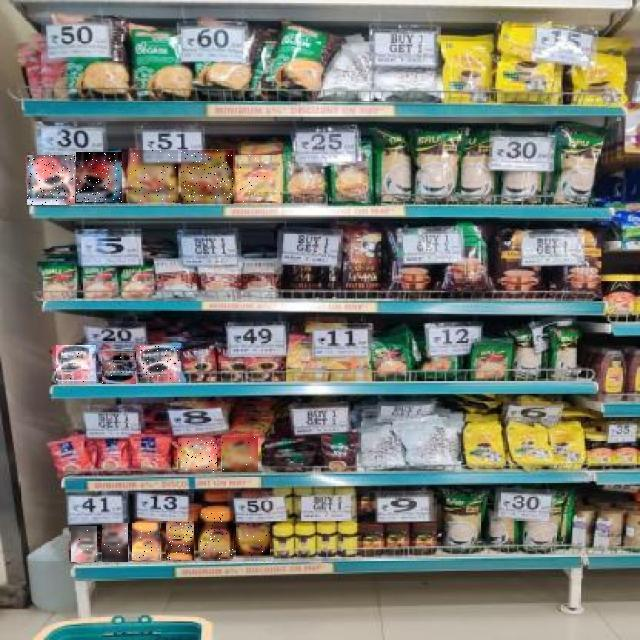Coffee: (181, 150, 233, 204), (128, 150, 178, 202), (27, 155, 75, 205), (76, 152, 122, 202), (235, 155, 280, 203), (198, 513, 233, 559), (56, 346, 96, 384), (140, 346, 180, 382), (178, 439, 217, 473), (222, 437, 258, 472), (236, 524, 270, 560), (102, 350, 136, 384), (166, 522, 194, 560), (132, 523, 160, 560), (103, 523, 129, 562), (71, 526, 97, 562)
